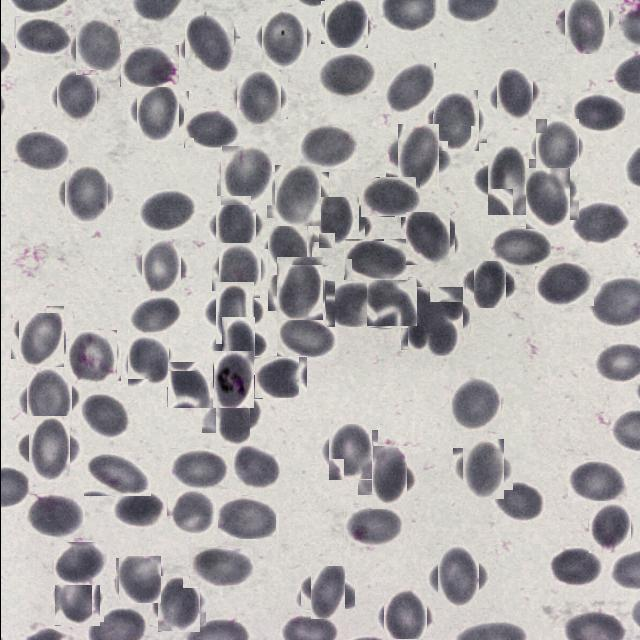red blood cell: (404, 291, 466, 353), (180, 14, 237, 70), (479, 152, 535, 208), (218, 148, 274, 204), (272, 260, 327, 316), (21, 372, 76, 427), (428, 94, 482, 148), (21, 422, 75, 476), (390, 130, 444, 184), (256, 10, 310, 64), (270, 168, 324, 222), (83, 453, 150, 496), (14, 310, 68, 363), (213, 496, 278, 540), (432, 550, 484, 604), (520, 172, 574, 224), (449, 378, 502, 430), (66, 331, 118, 383), (343, 238, 407, 280), (276, 316, 337, 360), (317, 52, 375, 98), (298, 124, 357, 169), (132, 86, 183, 138), (382, 63, 434, 114), (559, 0, 613, 49), (60, 168, 110, 220), (532, 122, 582, 174), (534, 262, 593, 306), (188, 546, 252, 586), (26, 494, 84, 538), (457, 444, 508, 494), (233, 72, 284, 122), (567, 460, 626, 503), (119, 44, 178, 87), (569, 202, 629, 244), (324, 427, 374, 477), (152, 580, 202, 630), (72, 22, 122, 72), (52, 574, 102, 624), (210, 288, 260, 338), (364, 452, 414, 502), (379, 591, 430, 640), (79, 392, 131, 440), (324, 280, 377, 327), (359, 176, 419, 217), (168, 448, 228, 489), (343, 505, 403, 546), (210, 201, 260, 250), (214, 246, 264, 295), (489, 226, 550, 266), (138, 190, 196, 232), (264, 224, 314, 272), (14, 130, 70, 172), (403, 214, 452, 262), (367, 279, 416, 327), (136, 242, 184, 290), (231, 442, 279, 490), (166, 490, 217, 535), (13, 16, 70, 56), (53, 542, 106, 585), (124, 337, 171, 385), (586, 503, 633, 551), (253, 356, 306, 398), (52, 72, 99, 119), (208, 392, 255, 439), (548, 546, 603, 586), (183, 108, 238, 148), (322, 0, 369, 46), (315, 199, 361, 245), (491, 72, 537, 118), (166, 362, 212, 408), (128, 295, 182, 334), (492, 481, 544, 521), (214, 324, 260, 369), (571, 94, 625, 132), (116, 557, 161, 602), (305, 570, 349, 614), (114, 492, 163, 531), (469, 264, 509, 304)
trophozoite: (208, 354, 258, 404)
